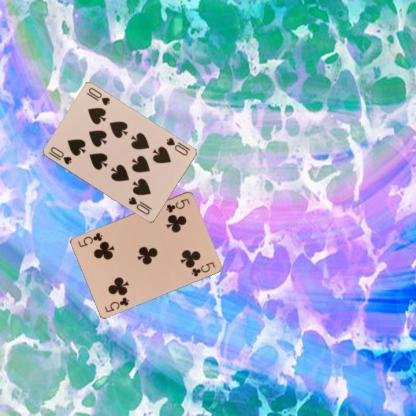10s: (46, 144, 72, 166), (163, 134, 189, 156)
5c: (102, 294, 131, 313), (164, 196, 191, 214)
